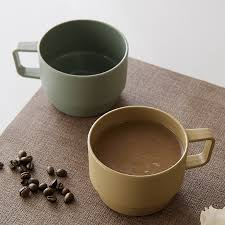mug: (65, 103, 225, 213), (1, 16, 139, 124)
